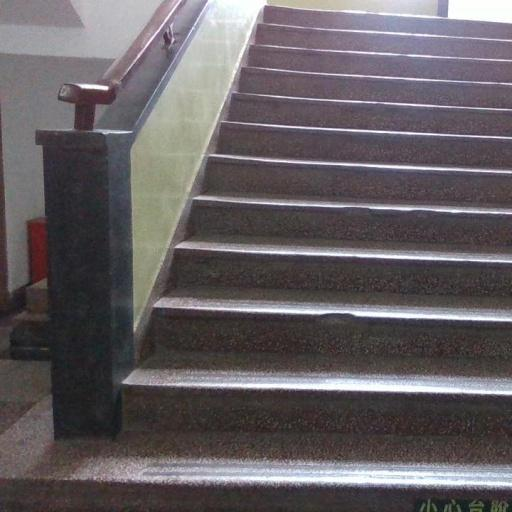stairs: (121, 6, 511, 511)
